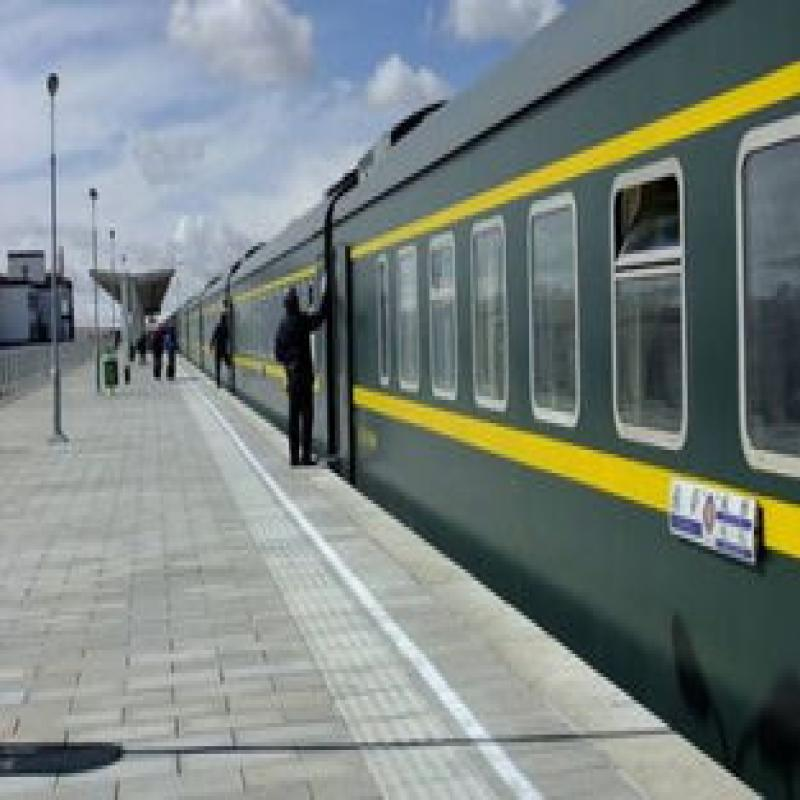train: (371, 143, 800, 670)
